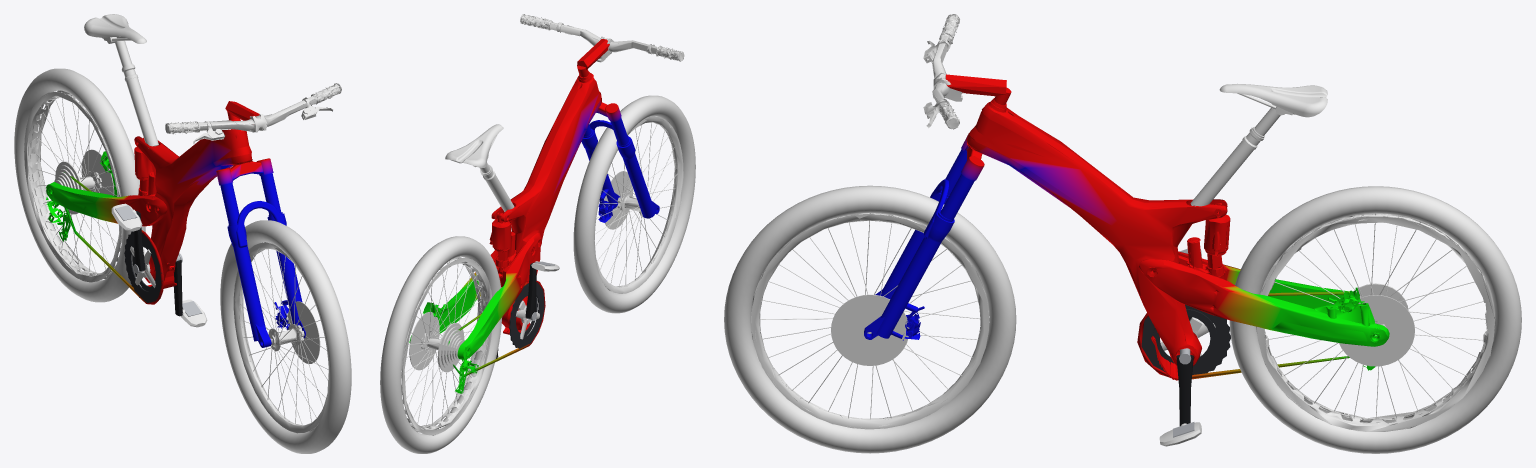
The model's file is mtb.glb.
The picture shows the model from 3 angles, left to right: view 1: azimuth 30°, elevation 25°; view 2: azimuth 150°, elevation 25°; view 3: azimuth 270°, elevation 25°; orthographic projection. The views are drawn at different scales.
Parts seen in each view (by area): view 1: frame, wheel_front, wheel_rear, saddle, cockpit, crankset, pedal_R, pedal_L; view 2: frame, wheel_rear, wheel_front, crankset, saddle, cockpit; view 3: frame, wheel_front, wheel_rear, saddle, crankset, cockpit.
Boxes of the visible parts, x1,y1,x2,y2 form: frame: [46, 101, 305, 347]; wheel_front: [220, 220, 351, 453]; wheel_rear: [14, 68, 145, 302]; saddle: [84, 14, 158, 148]; cockpit: [165, 83, 341, 143]; crankset: [124, 211, 182, 316]; pedal_R: [111, 203, 142, 231]; pedal_L: [180, 299, 207, 327]; frame: [409, 39, 659, 393]; wheel_rear: [380, 236, 502, 453]; wheel_front: [573, 95, 695, 313]; crankset: [496, 262, 544, 358]; saddle: [445, 124, 514, 211]; cockpit: [520, 14, 684, 62]; frame: [864, 74, 1389, 380]; wheel_front: [724, 185, 1016, 453]; wheel_rear: [1229, 186, 1521, 453]; saddle: [1190, 83, 1327, 206]; crankset: [1141, 304, 1230, 426]; cockpit: [923, 14, 965, 129].
Size of the model in its own units: 0.5594 by 0.9808 by 1.83.
